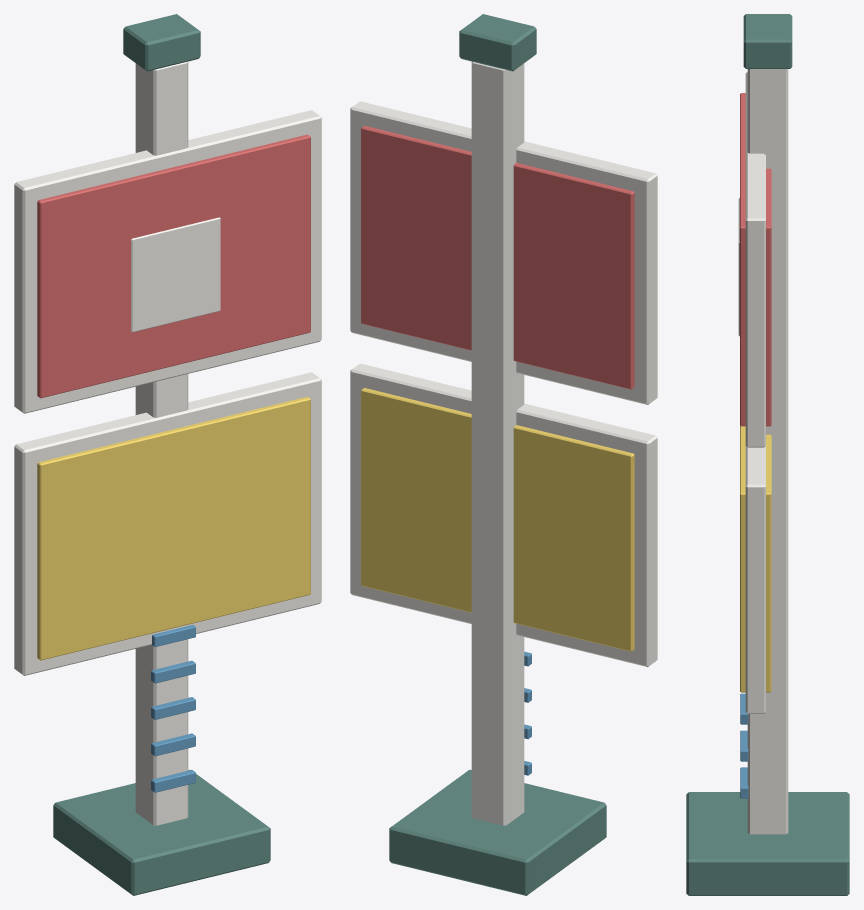
Rendered from amusement-arcade-and-seaside-pier-tide-and-safety-sign-6832756e__35425.glb.
3 views of the same model, side by side, from view 1: azimuth 30°, elevation 25°; view 2: azimuth 150°, elevation 25°; view 3: azimuth 270°, elevation 25° (orthographic).
Parts seen in each view (by area): view 1: tide-and-safety-sign; view 2: tide-and-safety-sign; view 3: tide-and-safety-sign.
Boxes of the visible parts, x1,y1,x2,y2 form: tide-and-safety-sign: (14, 14, 321, 895); tide-and-safety-sign: (350, 14, 657, 895); tide-and-safety-sign: (686, 14, 849, 895).
Size of the model in its own units: 0.8599 by 2.26 by 0.4.
